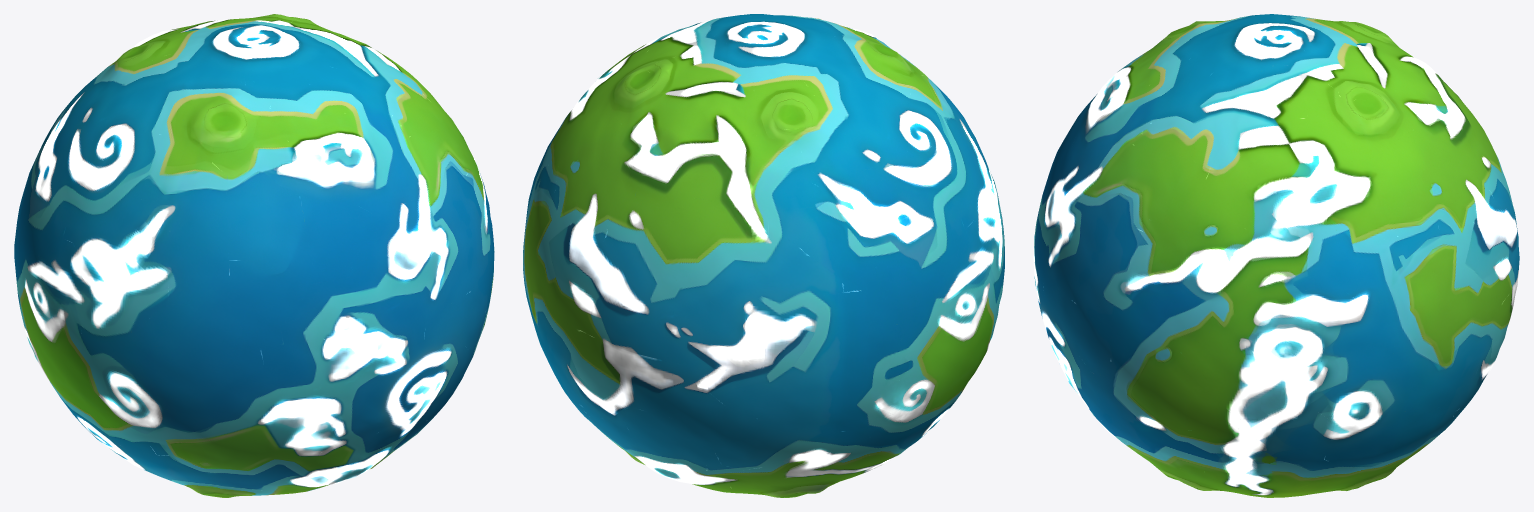
Rendered from Meshy_AI_Cartoon_anime_style__0519154112_texture.glb.
3 views of the same model, side by side, from view 1: azimuth 30°, elevation 25°; view 2: azimuth 150°, elevation 25°; view 3: azimuth 270°, elevation 25° (orthographic).
Size of the model in its own units: 1.91 by 1.91 by 1.91.
Materials: 1 (1 with a texture image).
